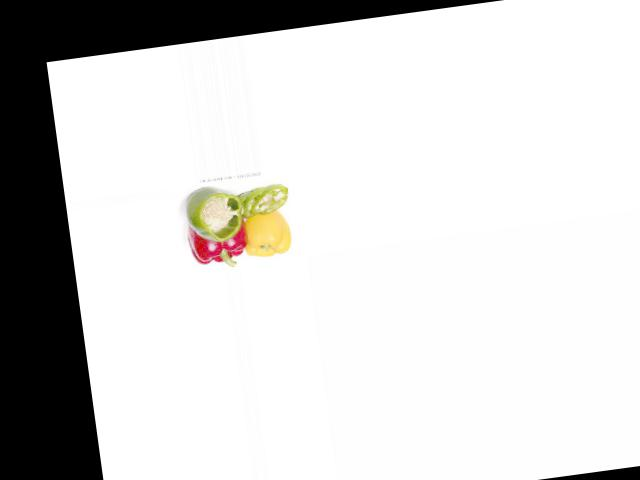bell_pepper: (178, 187, 246, 247)
